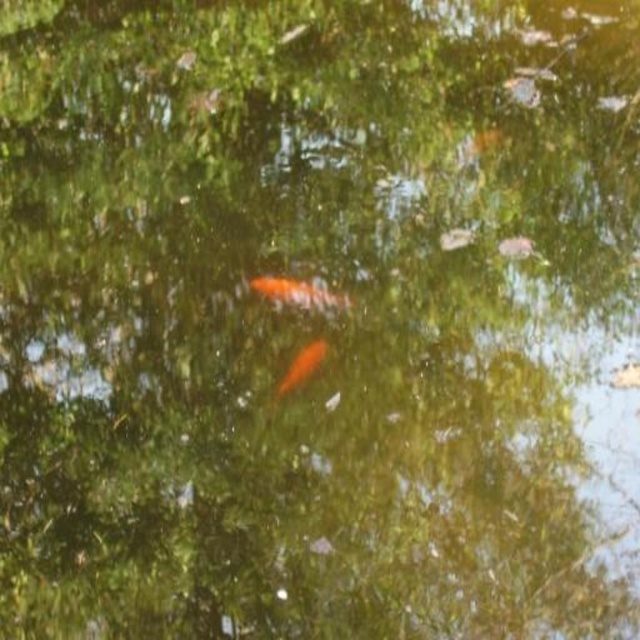Fish: (251, 277, 350, 313), (279, 341, 331, 397)
